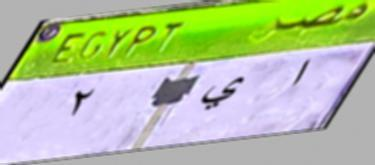2: (64, 81, 98, 121)
alif: (284, 56, 314, 90)
yaa: (198, 74, 245, 115)
